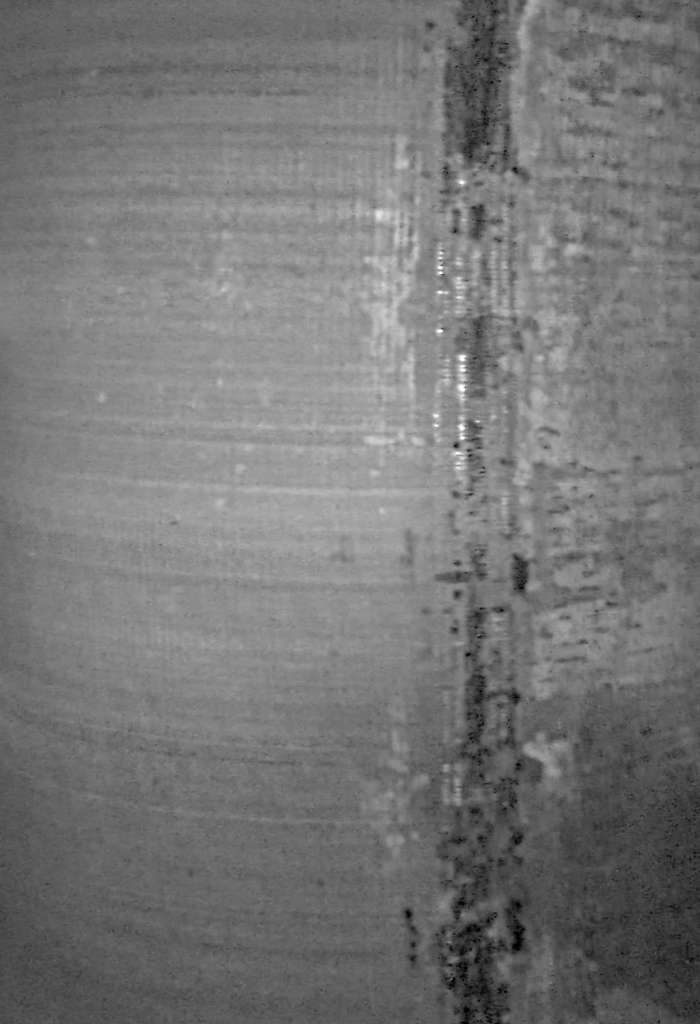splice: (424, 1, 543, 1024)
